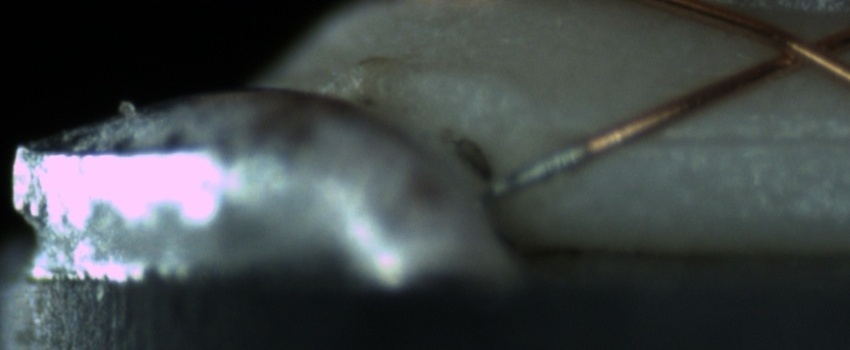CL: (754, 16, 846, 81)
DL: (629, 104, 850, 173)
TS: (488, 140, 585, 198)
